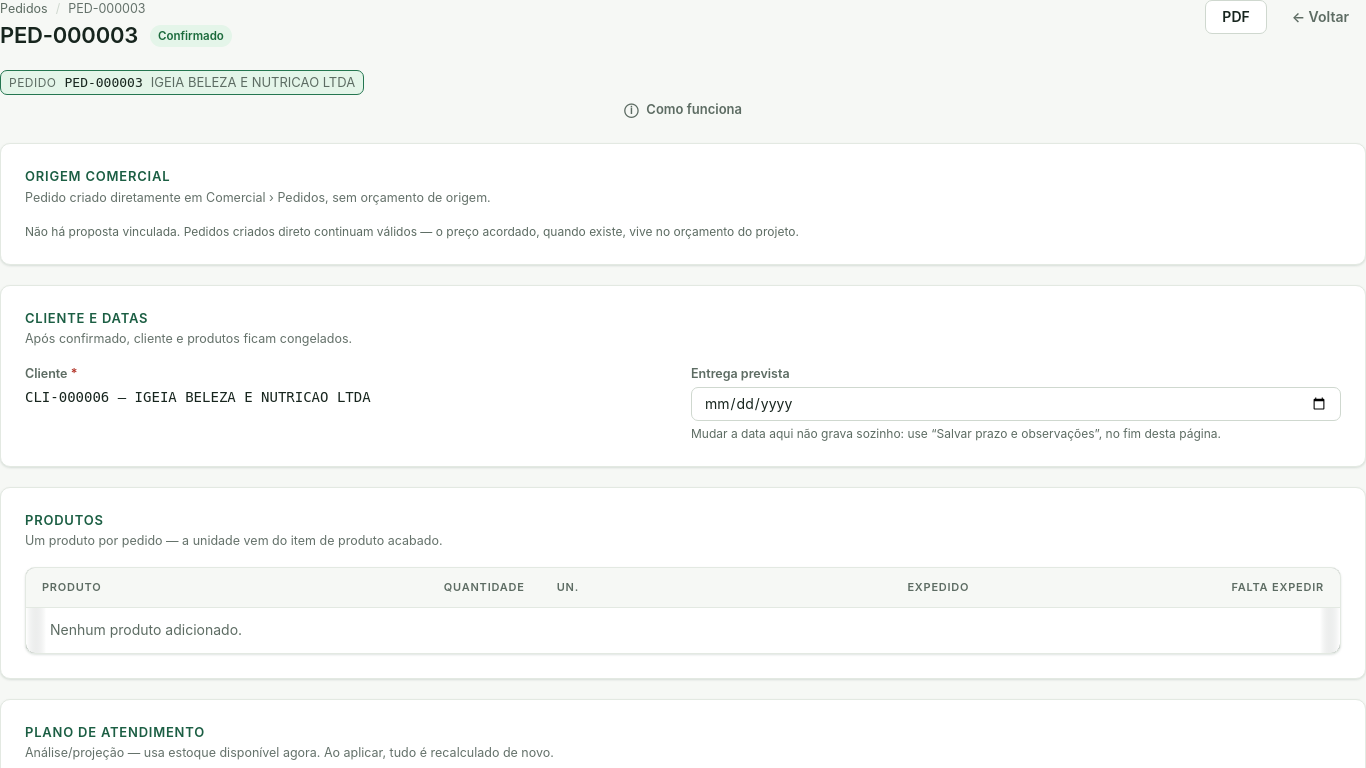
Scenario: Plano de Atendimento › o documento tem ajuda própria, e ela não é a do Plano
Click the button "ⓘ Como funciona": (683, 110) [0,96,1365,124]
(page scrolled)
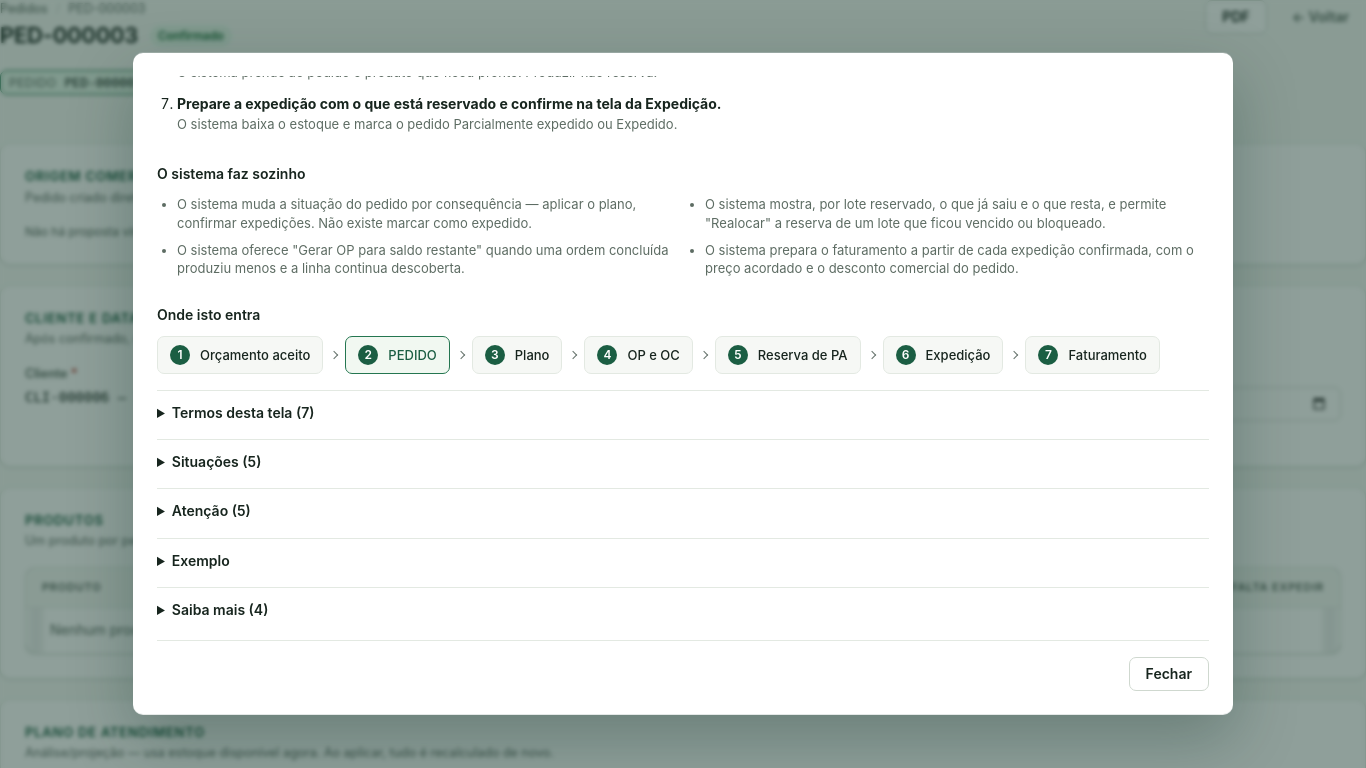
expect the button "ⓘ Como funciona" is expanded: met, box [0,96,1365,124]
expect the list item "Não existe marcar como expedido" is shown: met, box [177,196,636,230]
Click the button "Fechar": (1169, 674) [1129,657,1209,691]
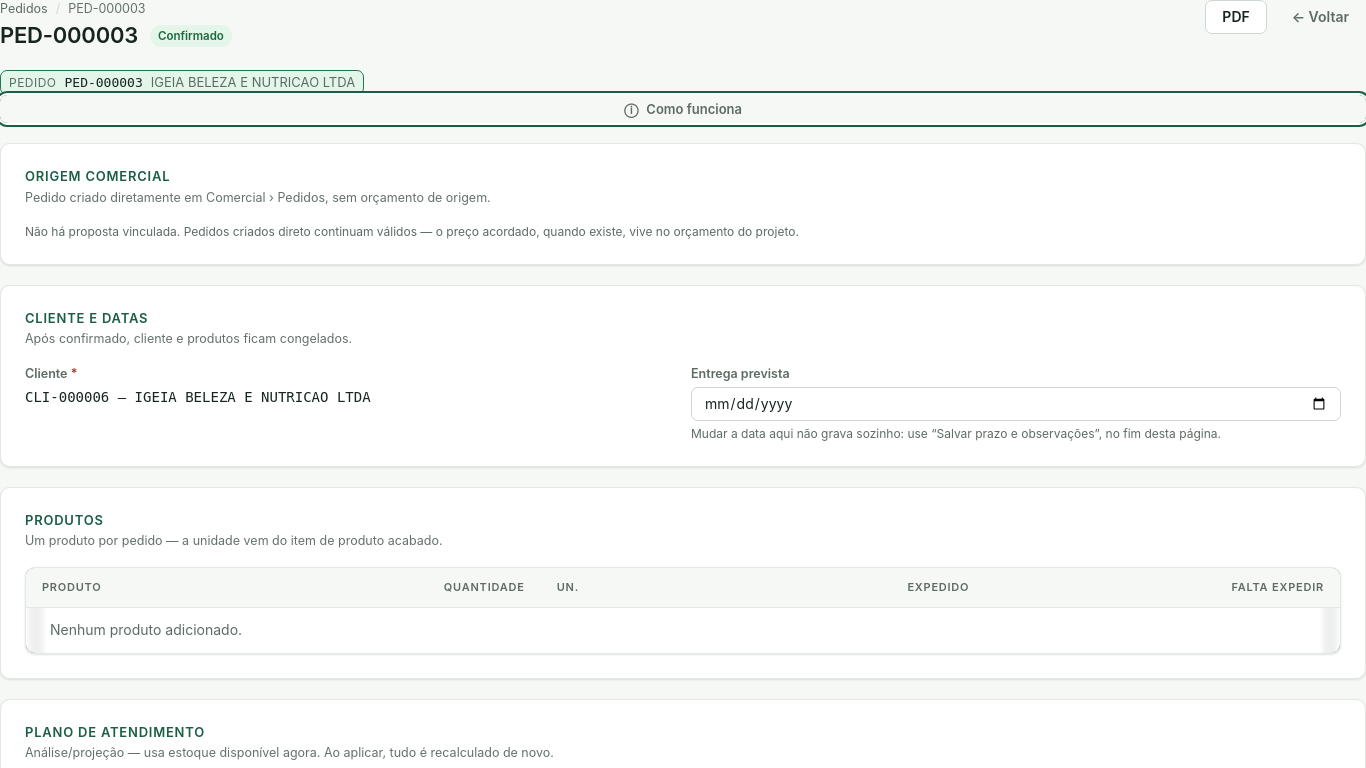
expect the button "ⓘ Como funciona" is collapsed: met, box [0,96,1365,124]
